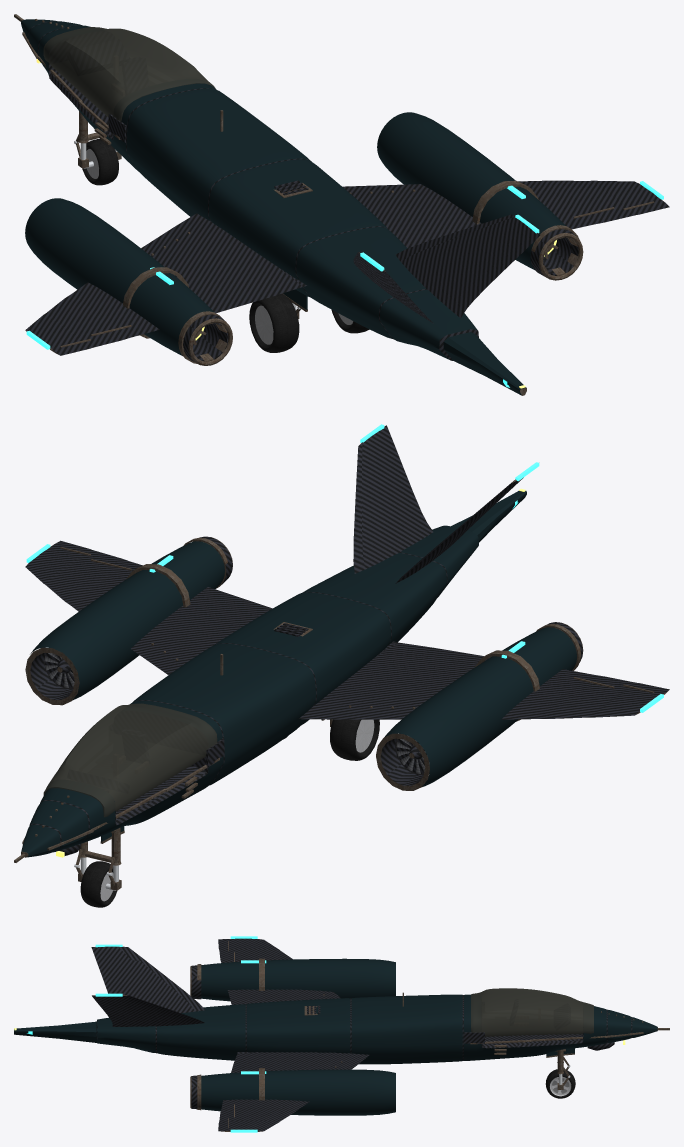
The picture shows the model from 3 angles, top to bottom: view 1: azimuth 30°, elevation 25°; view 2: azimuth 150°, elevation 25°; view 3: azimuth 270°, elevation 25°; orthographic projection. The views are drawn at different scales.
Visible parts, largest first — view 1: kb4_core, kb4_wing_l, kb4_wing_r, kb4_tail_r, kb4_gear_down, kb4_tail_l; view 2: kb4_core, kb4_wing_l, kb4_wing_r, kb4_tail_r, kb4_gear_down, kb4_tail_l; view 3: kb4_core, kb4_wing_r, kb4_wing_l, kb4_tail_l, kb4_tail_r, kb4_gear_down.
Boxes of the visible parts, <box> form: kb4_core: <box>14,14,526,395</box>; kb4_wing_l: <box>25,198,302,365</box>; kb4_wing_r: <box>342,112,669,280</box>; kb4_tail_r: <box>395,214,539,317</box>; kb4_gear_down: <box>74,111,369,352</box>; kb4_tail_l: <box>353,252,433,323</box>; kb4_core: <box>14,488,526,862</box>; kb4_wing_l: <box>299,622,669,790</box>; kb4_wing_r: <box>25,536,272,705</box>; kb4_tail_r: <box>353,424,433,573</box>; kb4_gear_down: <box>74,719,379,907</box>; kb4_tail_l: <box>395,462,539,583</box>; kb4_core: <box>14,988,669,1064</box>; kb4_wing_r: <box>190,1052,395,1132</box>; kb4_wing_l: <box>190,936,395,1004</box>; kb4_tail_l: <box>91,944,205,1013</box>; kb4_tail_r: <box>92,993,204,1026</box>; kb4_gear_down: <box>545,1048,575,1098</box>.
Bounding box in the file's own units: 6.13 × 1.88 × 8.76.
Materials: 15 (8 with a texture image).
